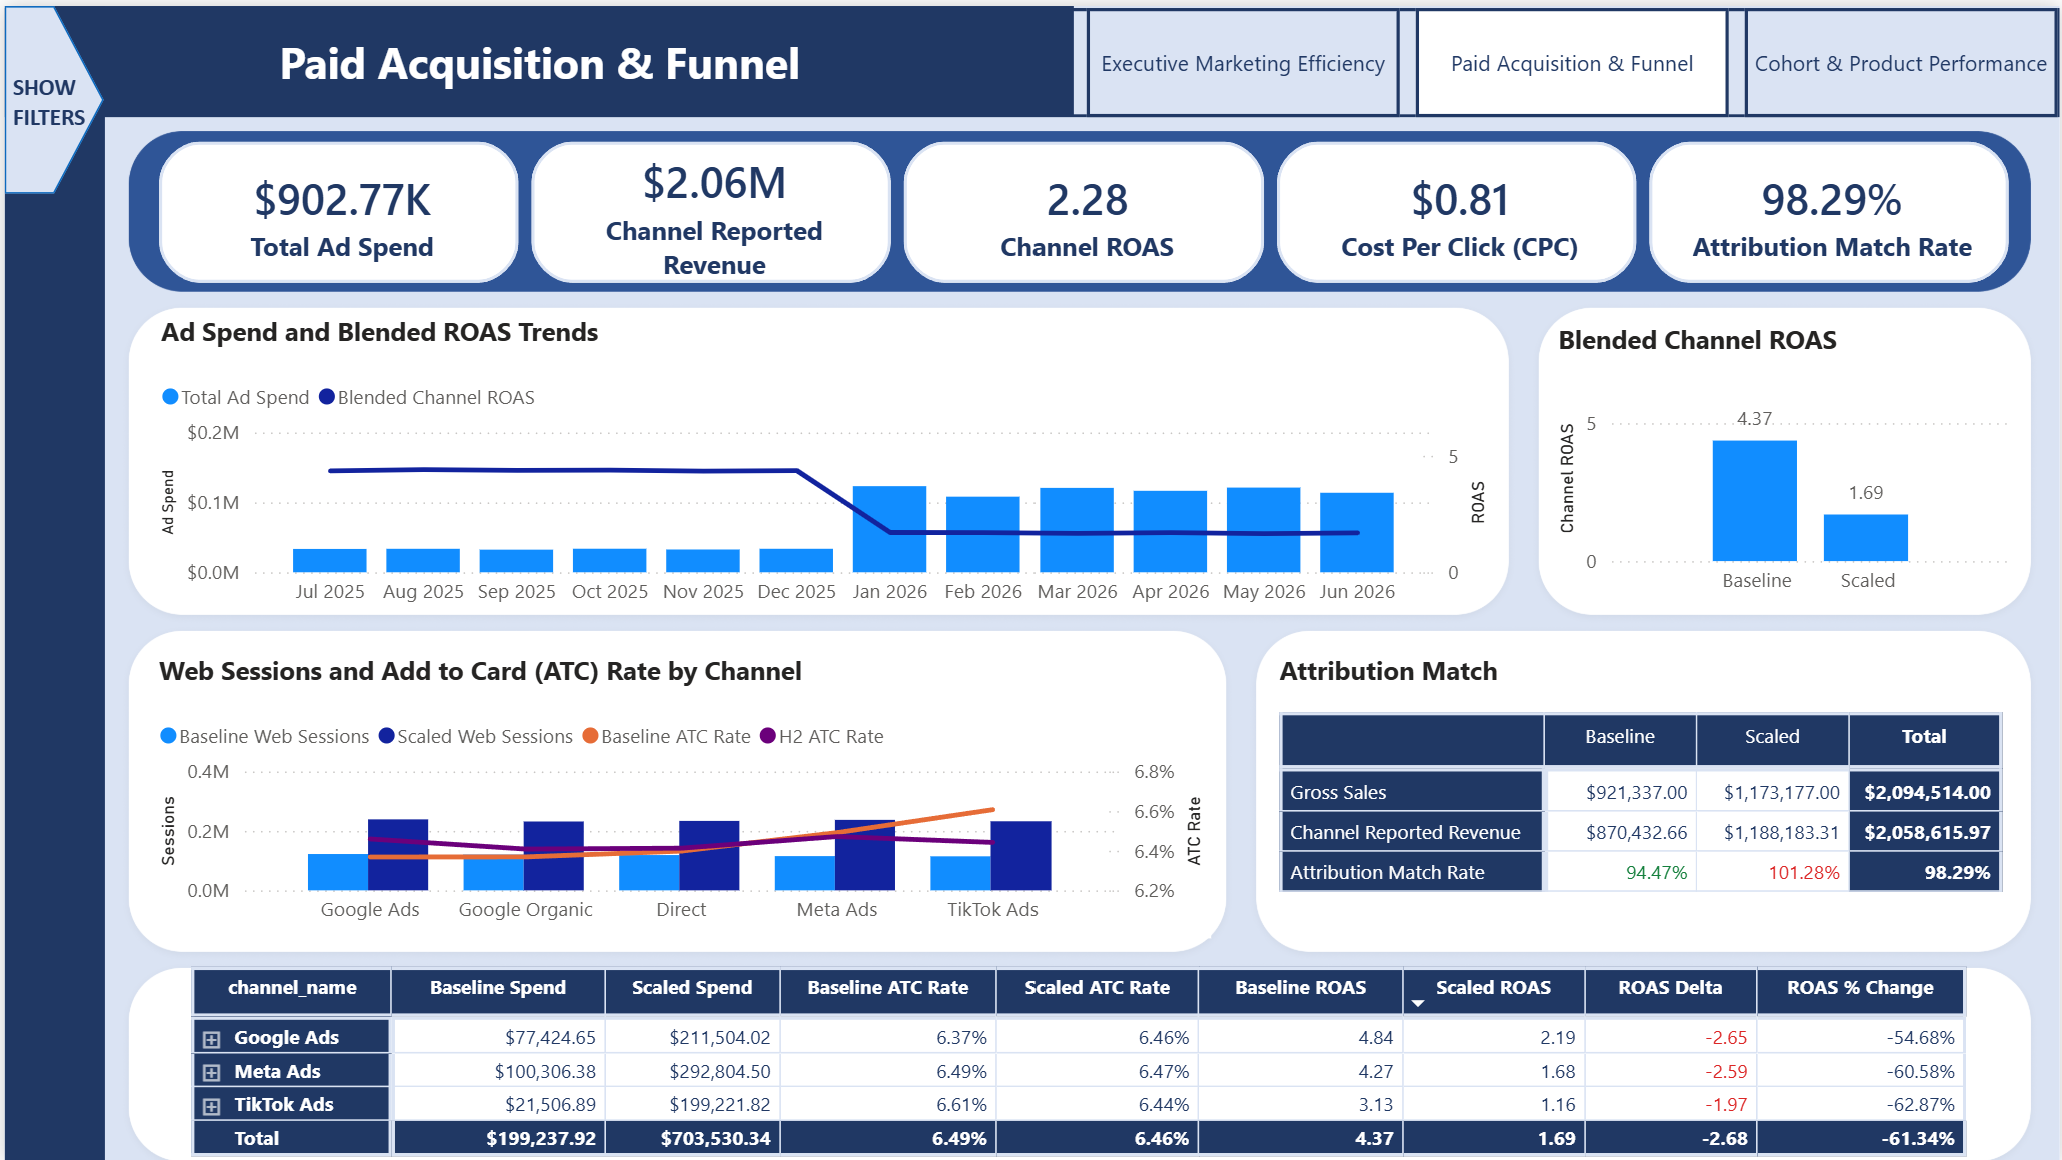

This screenshot's page, from the dashboard's own definition file:
{"tool":"powerbi","page":{"name":"Paid Acquisition & Funnel","canvas":[1280,720],"ordinal":1},"visuals":[{"type":"shape","title":"Rectangle","box":[0,0,62.5,720],"z":0,"group":"g1"},{"type":"cardVisual","fields":{"Data":["_Measures.Total Ad Spend","_Measures.Channel Reported Revenue","_Measures.Channel ROAS","_Measures.Cost Per Click (CPC)","_Measures.Attribution Match Rate"]},"box":[91.1,81.9,1165.7,92.9],"z":0},{"type":"shape","box":[0,0,61.8,117],"z":1000,"group":"g1"},{"type":"lineClusteredColumnComboChart","title":"Web Sessions and Add to Card (ATC) Rate by Channel","fields":{"Category":["dim_channels.channel_name"],"Y":["_Measures.H1 Web Sessions","_Measures.H2 Web Sessions"],"Y2":["_Measures.H1 ATC Rate","_Measures.H2 ATC Rate"]},"box":[91.4,402.9,660,178.6],"z":1000},{"type":"textbox","box":[0,35.7,78.6,64.3],"z":2000,"group":"g1"},{"type":"clusteredColumnChart","title":"Blended Channel ROAS","fields":{"Category":["dim_calendar.Analysis Period"],"Y":["_Measures.Channel ROAS"]},"box":[963,196.8,293.3,179.6],"z":2000},{"type":"actionButton","box":[0,0,61.8,117],"z":3000,"group":"g1"},{"type":"shape","title":"top divider box","box":[0,1.6,1280,68.2],"z":3000},{"type":"pageNavigator","box":[674.3,1.4,605.7,68.6],"z":4000},{"type":"shape","title":"title","box":[1.4,0,664.3,68.6],"z":5000},{"type":"lineClusteredColumnComboChart","title":"Ad Spend and Blended ROAS Trends","fields":{"Category":["dim_calendar.month_year"],"Y":["_Measures.Total Ad Spend"],"Y2":["_Measures.Channel ROAS"]},"box":[92,191.6,835.4,191.6],"z":5125},{"type":"pivotTable","fields":{"Rows":["dim_channels.channel_name","fact_marketing_performance.campaign_name"],"Values":["_Measures.H1 Spend","_Measures.H2 Spend","_Measures.H1 ATC Rate","_Measures.H2 ATC Rate","_Measures.H1 Channel ROAS","_Measures.H2 Channel ROAS","_Measures.ROAS Delta","_Measures.ROAS % Change"]},"box":[111.2,598.8,1120,121.2],"z":5250},{"type":"pivotTable","title":"Attribution Match","fields":{"Columns":["dim_calendar.Analysis Period"],"Values":["_Measures.Gross Sales","_Measures.Channel Reported Revenue","_Measures.Attribution Match Rate"]},"box":[788.8,402.5,468.8,178.8],"z":5500},{"type":"group","id":"g1","title":"Collapsed Slicer Pane","box":[0,0,78.6,720],"z":6000}]}

Visuals, with their boxes in screenshot pixels (x1, y1, x2, y2), scaled from the page's 1280x720 canvas onto the 2062x1160 screenshot:
"Rectangle" shape: crop(0, 0, 101, 1159)
cardVisual - _Measures.Total Ad Spend x _Measures.Channel Reported Revenue: crop(147, 132, 2025, 282)
shape: crop(0, 0, 100, 188)
"Web Sessions and Add to Card (ATC) Rate by Channel" lineClusteredColumnComboChart: crop(147, 649, 1210, 937)
textbox: crop(0, 58, 127, 161)
"Blended Channel ROAS" clusteredColumnChart: crop(1551, 317, 2024, 606)
actionButton: crop(0, 0, 100, 188)
"top divider box" shape: crop(0, 3, 2061, 112)
pageNavigator: crop(1086, 2, 2061, 113)
"title" shape: crop(2, 0, 1072, 111)
"Ad Spend and Blended ROAS Trends" lineClusteredColumnComboChart: crop(148, 309, 1494, 617)
pivotTable - dim_channels.channel_name x fact_marketing_performance.campaign_name: crop(179, 965, 1983, 1159)
"Attribution Match" pivotTable: crop(1271, 648, 2026, 937)
"Collapsed Slicer Pane" group: crop(0, 0, 127, 1159)
